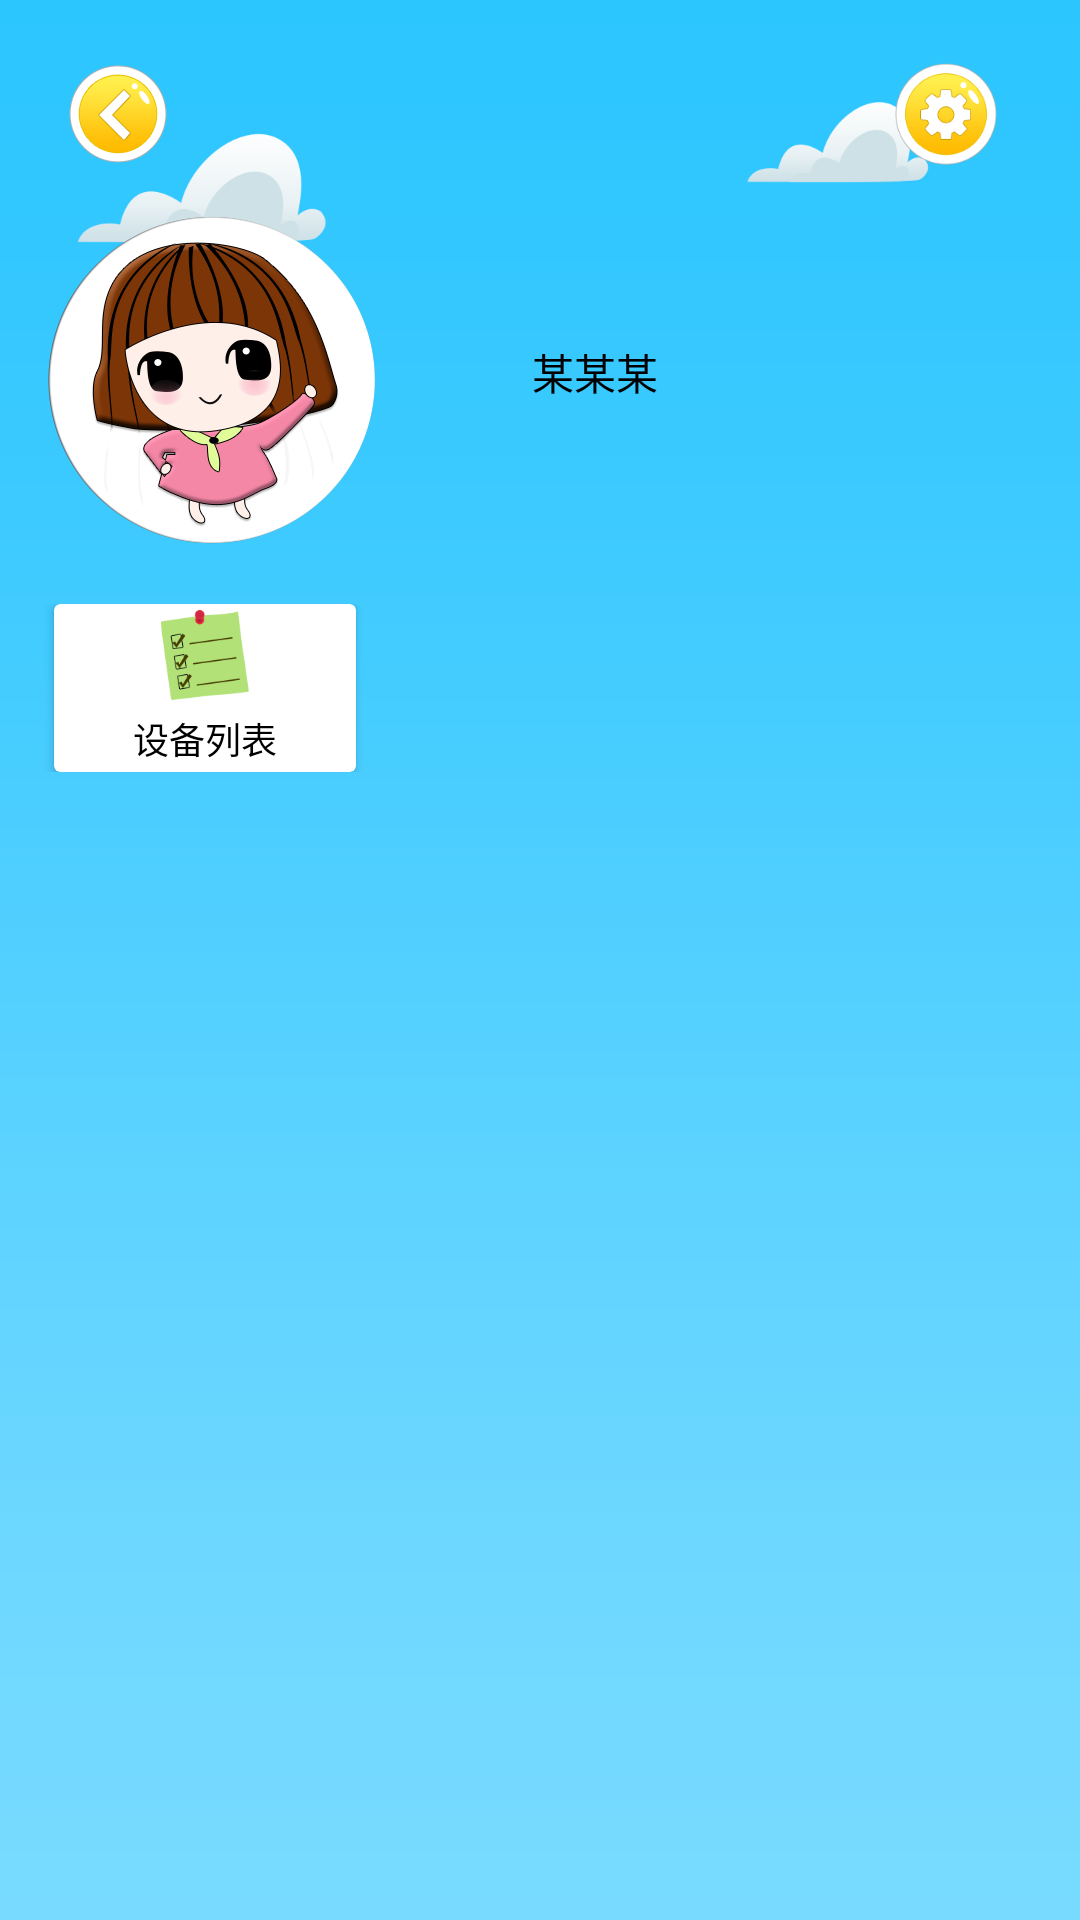

Named icons in this screenshot (1080px×1920px) and their bounding boxes, (x1, y1, x2, y2):
back: (69, 65, 167, 163)
touxinag: (48, 216, 375, 543)
